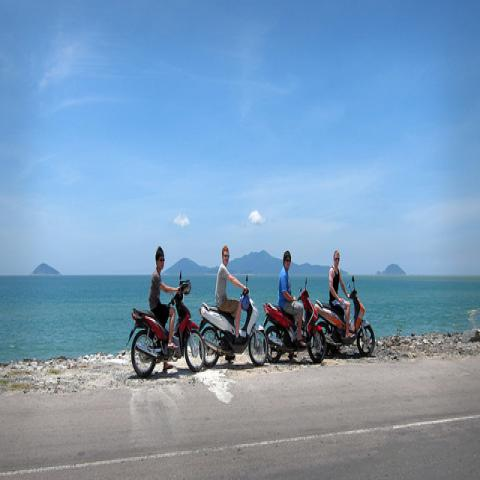motorcycle: (125, 270, 205, 378), (198, 288, 268, 369), (263, 278, 327, 364), (314, 276, 376, 357)
